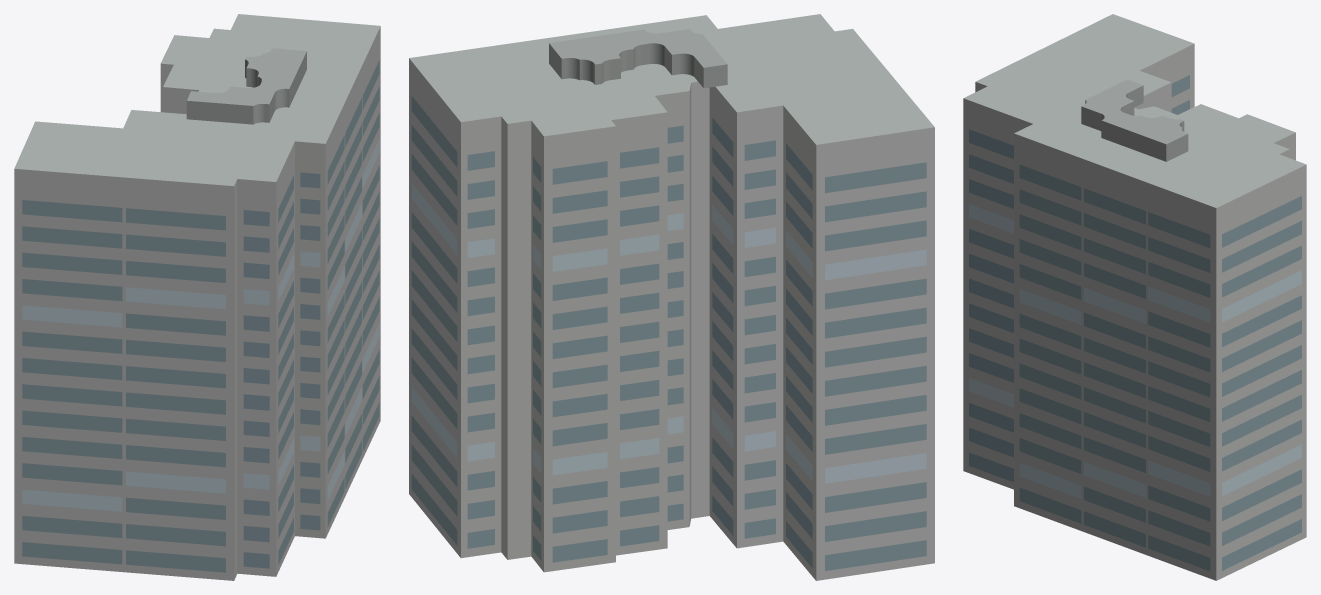
Rendered from fallback-godeok-arteon-318.glb.
3 views of the same model, side by side, from view 1: azimuth 30°, elevation 25°; view 2: azimuth 150°, elevation 25°; view 3: azimuth 270°, elevation 25° (orthographic). The views are drawn at different scales.
Parts seen in each view (by area): view 1: fallback-godeok-arteon-318; view 2: fallback-godeok-arteon-318; view 3: fallback-godeok-arteon-318.
Boxes of the visible parts, x1=… form: fallback-godeok-arteon-318: x1=14, y1=14, x2=380, y2=580; fallback-godeok-arteon-318: x1=409, y1=14, x2=934, y2=580; fallback-godeok-arteon-318: x1=963, y1=14, x2=1306, y2=580.
Bounding box in the file's own units: 49.07 × 46 × 36.67.
